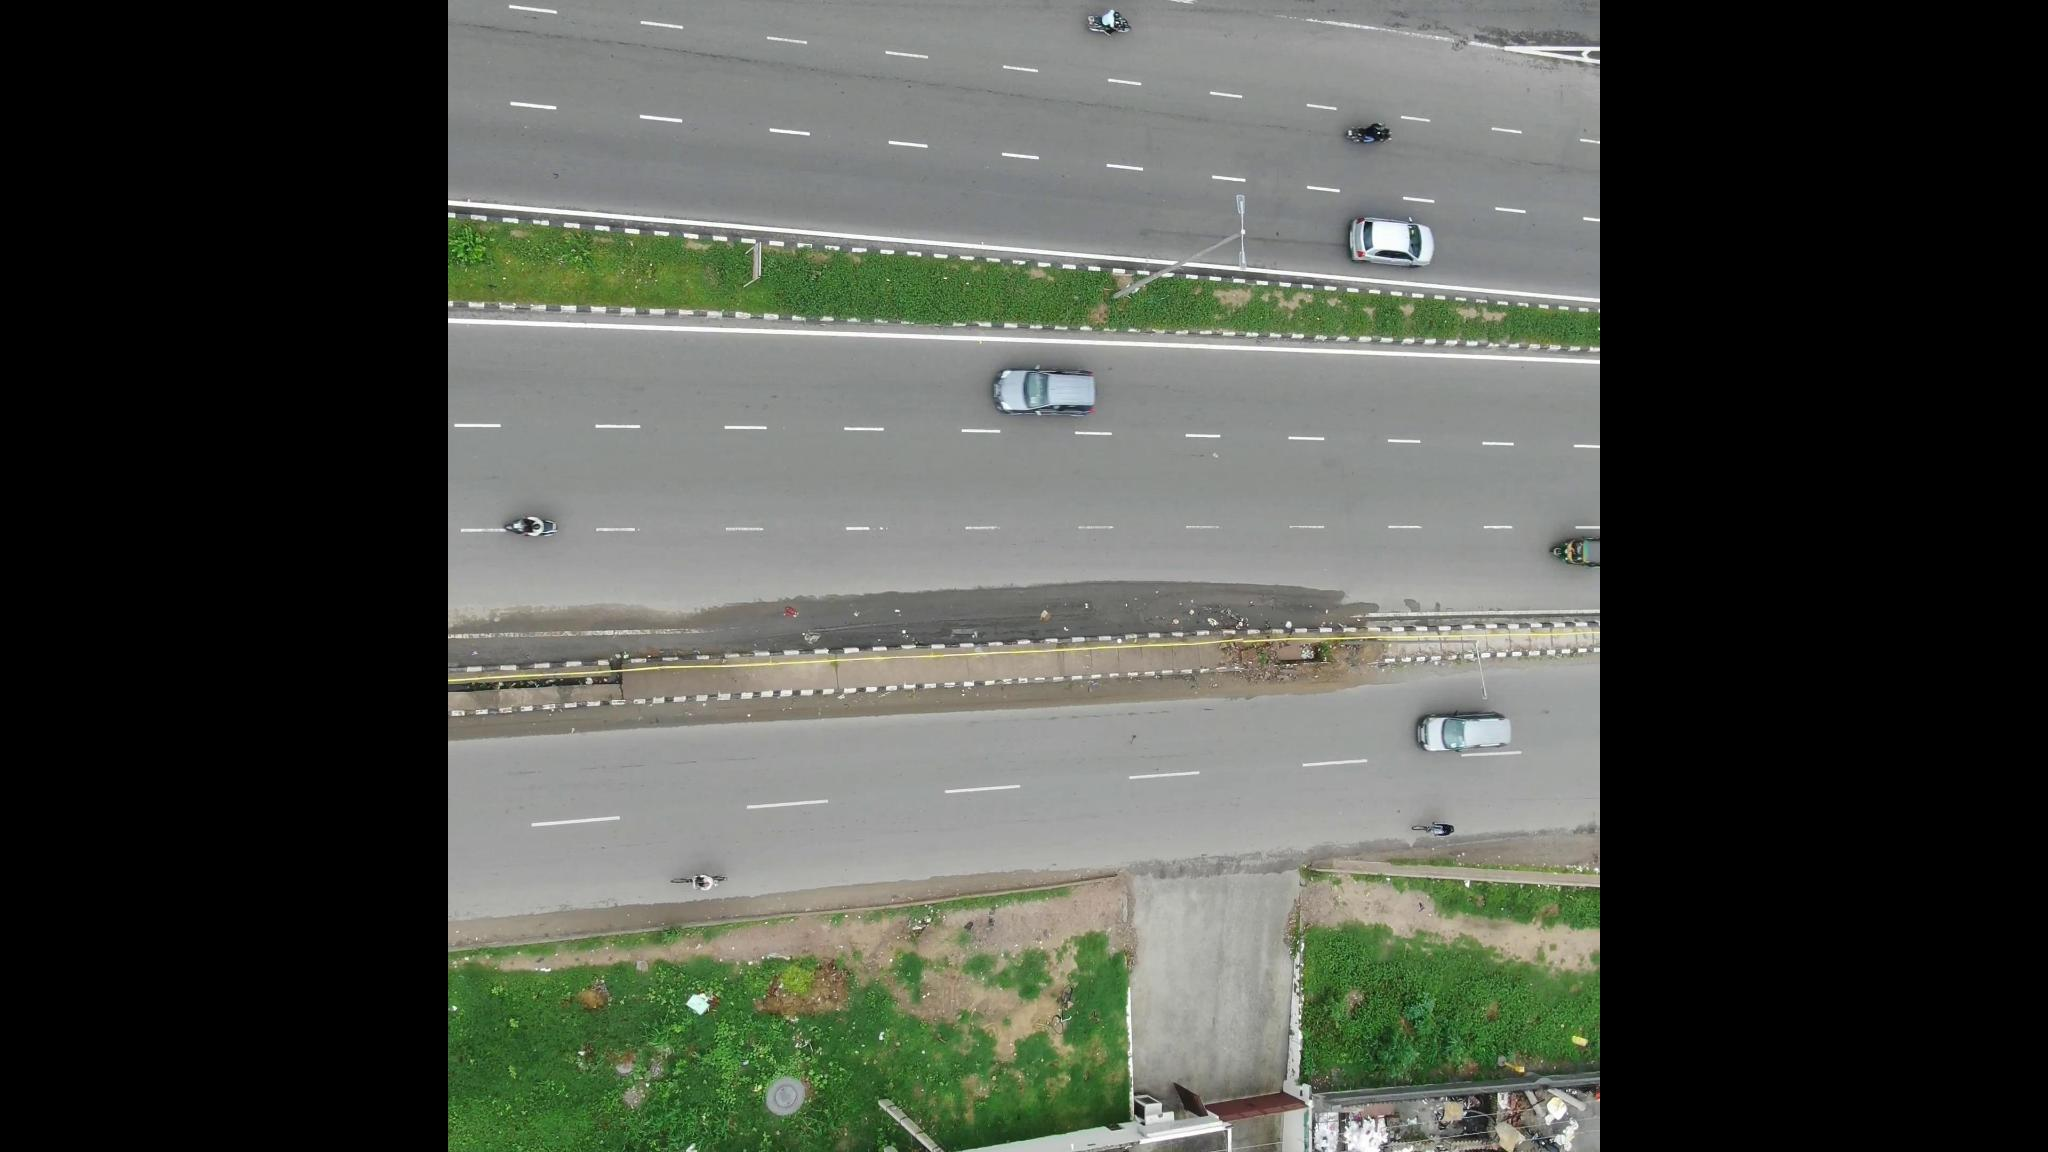Muddy_road: (1110, 660, 1388, 708)
